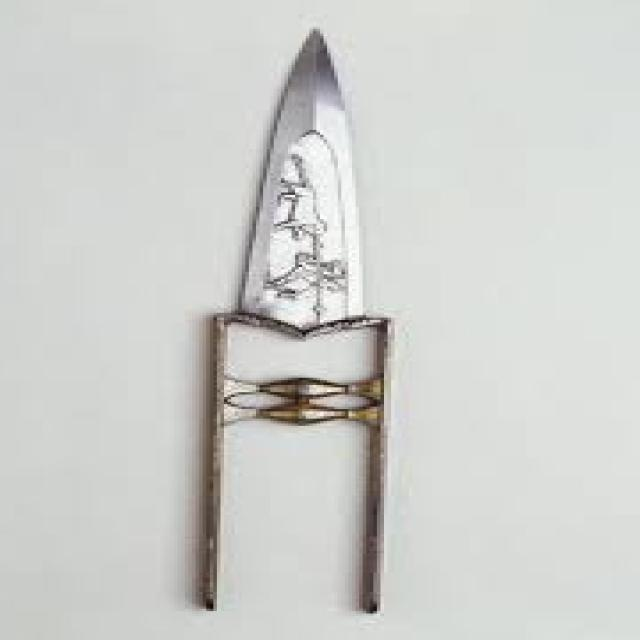Gun: (188, 36, 406, 608)
